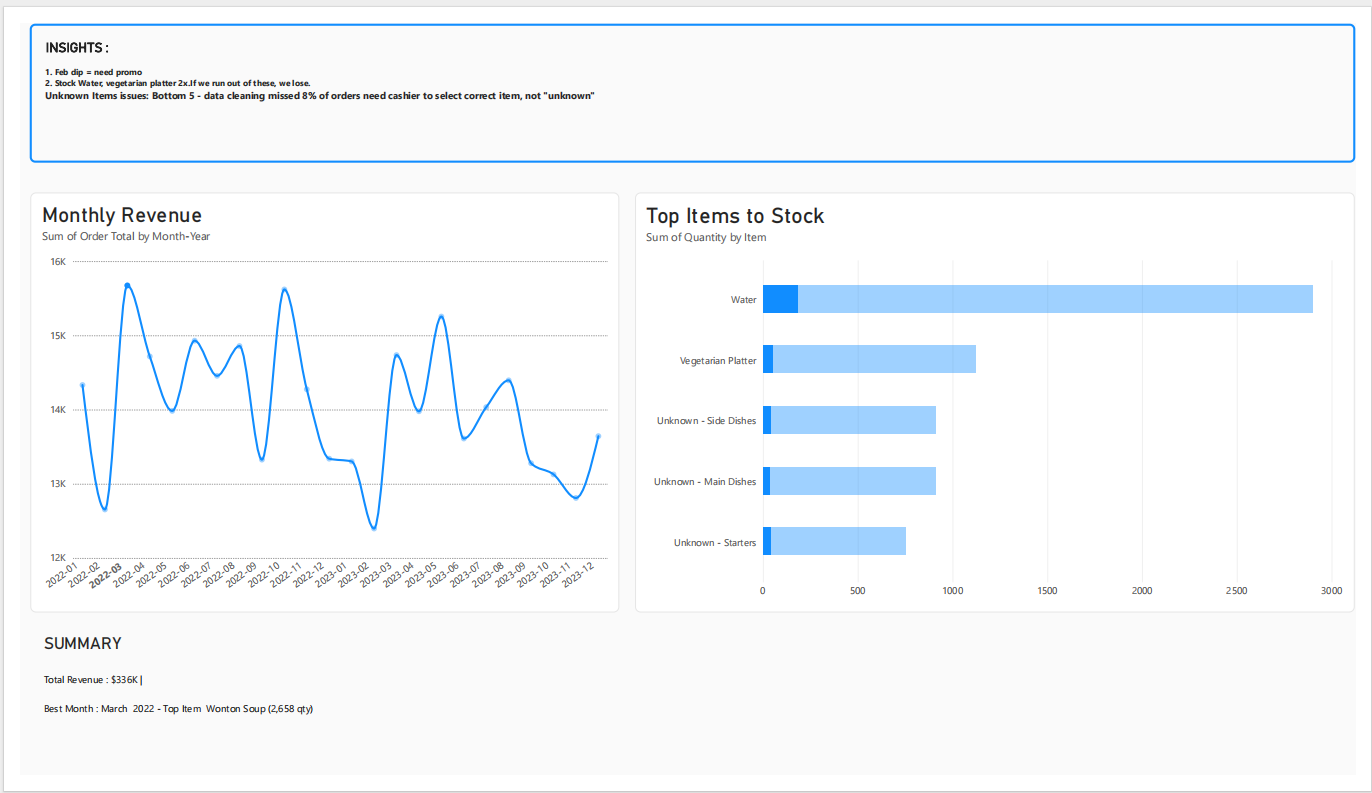

This screenshot's page, from the dashboard's own definition file:
{"tool":"powerbi","page":{"name":"Page 1","canvas":[1920,1080],"ordinal":0},"visuals":[{"type":"lineChart","title":"Monthly Revenue ","fields":{"Category":["cleaned_restaurant.Month-Year"],"Y":["Sum(cleaned_restaurant.Order Total)"]},"box":[13.6,243,847.2,604.2],"z":0},{"type":"barChart","title":"Top Items to Stock","fields":{"Category":["cleaned_restaurant.Item"],"Y":["Sum(cleaned_restaurant.Quantity)"]},"box":[883.5,243,1035.7,604.2],"z":1},{"type":"textbox","title":"INSIGHTS :","box":[12.9,0,1906.9,200],"z":2},{"type":"textbox","title":"SUMMARY","box":[14,857,847,223],"z":3}]}

Visuals, with their boxes in screenshot pixels (x1, y1, x2, y2), scaled from the page's 1920x1080 canvas onto the 1372x793 screenshot:
"Monthly Revenue " lineChart: x1=10 y1=178 x2=615 y2=622
"Top Items to Stock" barChart: x1=631 y1=178 x2=1371 y2=622
"INSIGHTS :" textbox: x1=9 y1=0 x2=1371 y2=147
"SUMMARY" textbox: x1=10 y1=629 x2=615 y2=792
